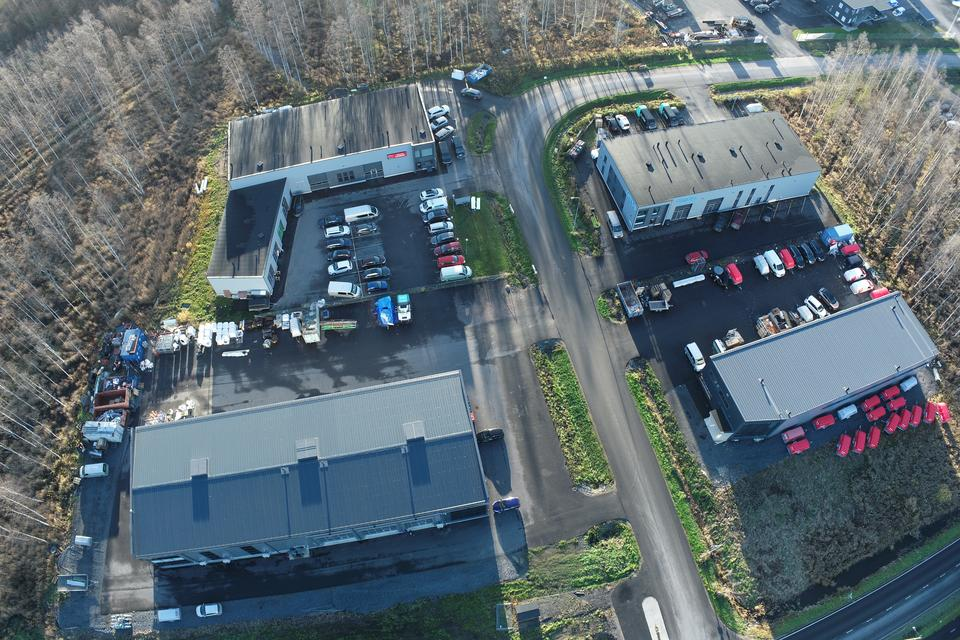intersection: (594, 564, 789, 640)
